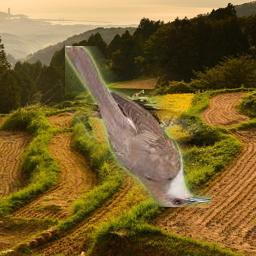Cuckoo: (66, 47, 213, 208)
